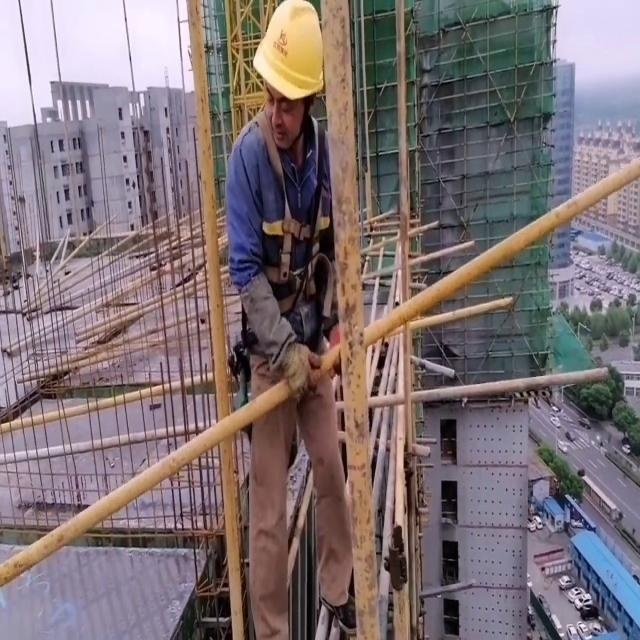Arnes_seguridad: (240, 109, 338, 329)
